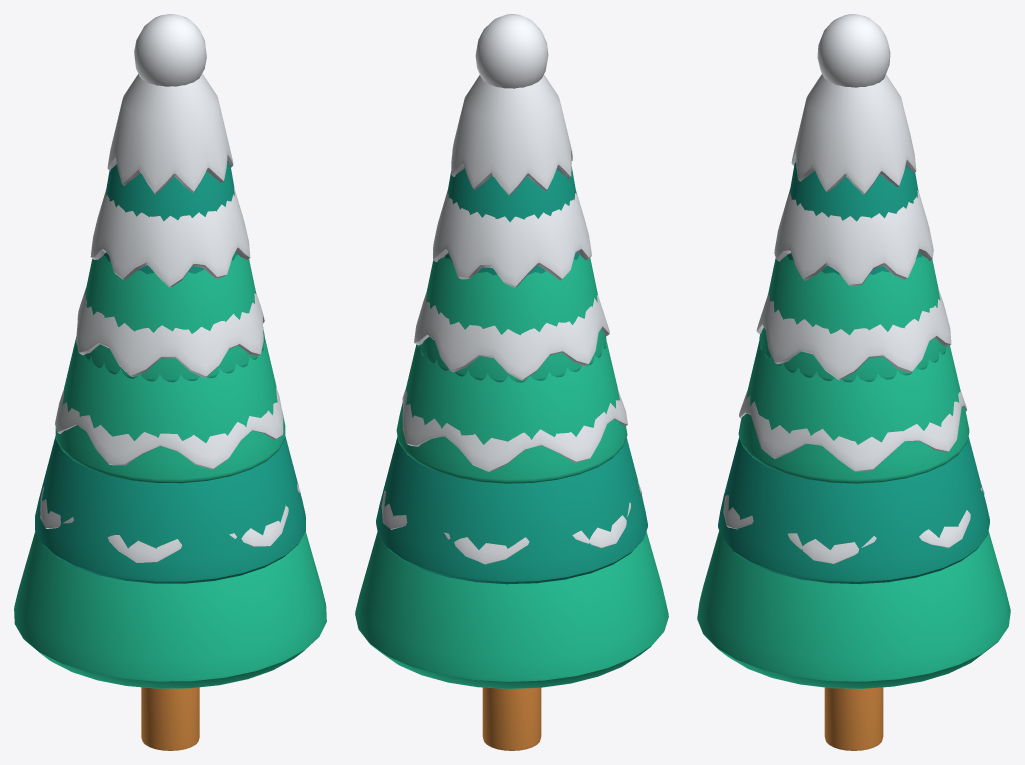
File: SnowFirC.glb
3 views of the same model, side by side, from view 1: azimuth 30°, elevation 25°; view 2: azimuth 150°, elevation 25°; view 3: azimuth 270°, elevation 25° (orthographic).
Visible parts, largest first — view 1: SnowFirC; view 2: SnowFirC; view 3: SnowFirC.
Part boxes in pixels (left/top/right/bottom): SnowFirC: left=14, top=14, right=326, bottom=750; SnowFirC: left=355, top=14, right=668, bottom=750; SnowFirC: left=697, top=14, right=1010, bottom=750.
Size of the model in its own units: 11.13 by 28.3 by 11.13.
1 material, 1 textured.
